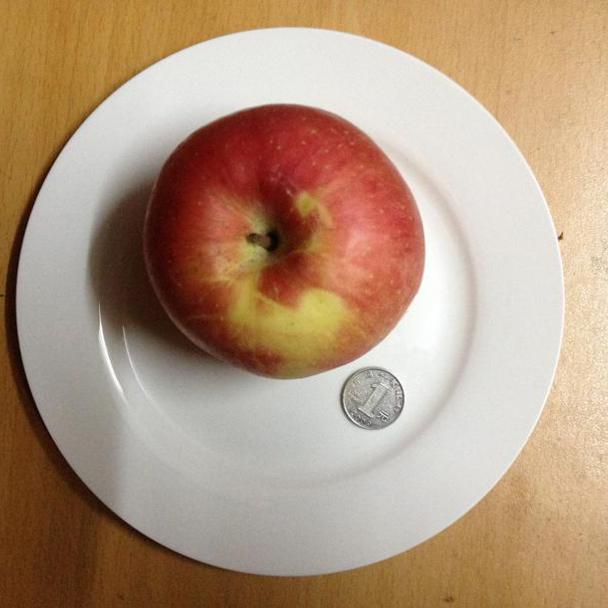apple: (142, 104, 426, 379)
